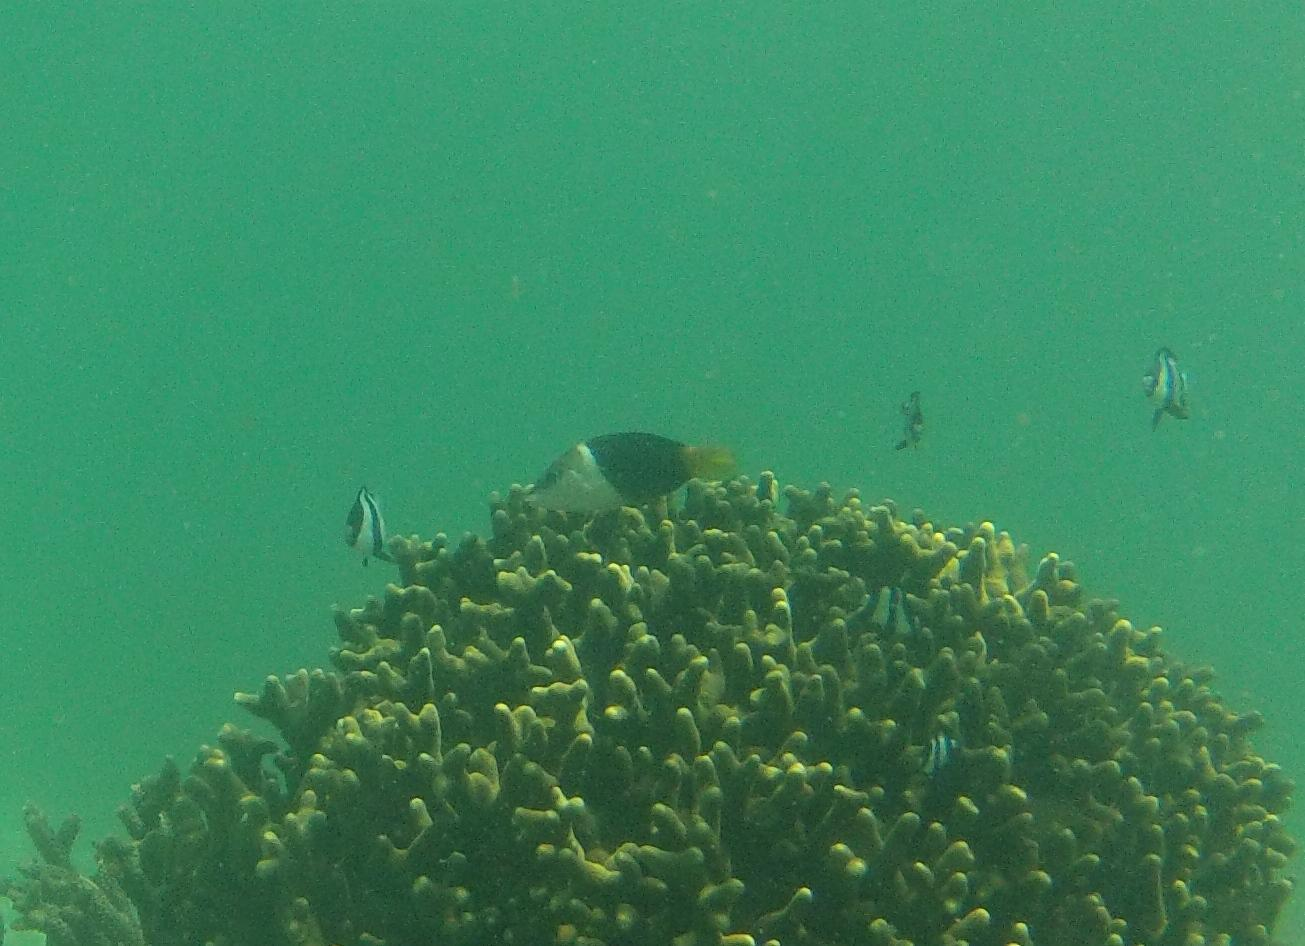Fish: (513, 424, 750, 520)
